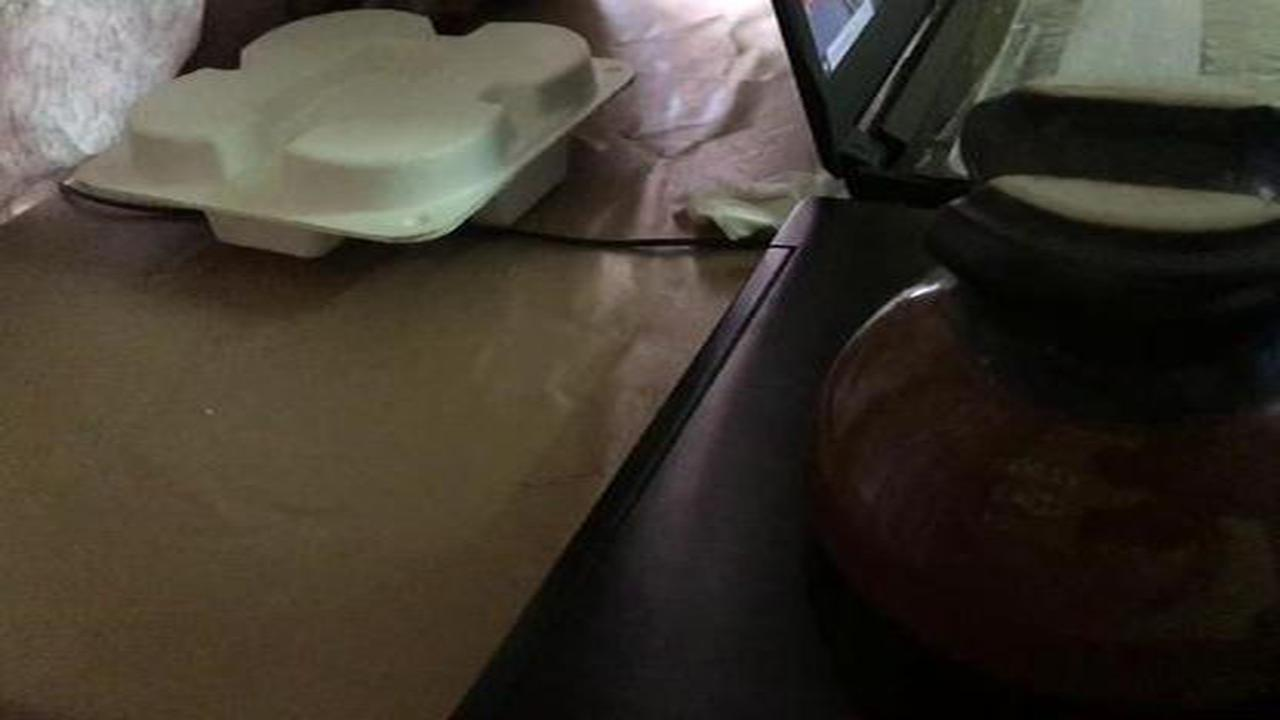insulator_pin: (797, 66, 1271, 662)
